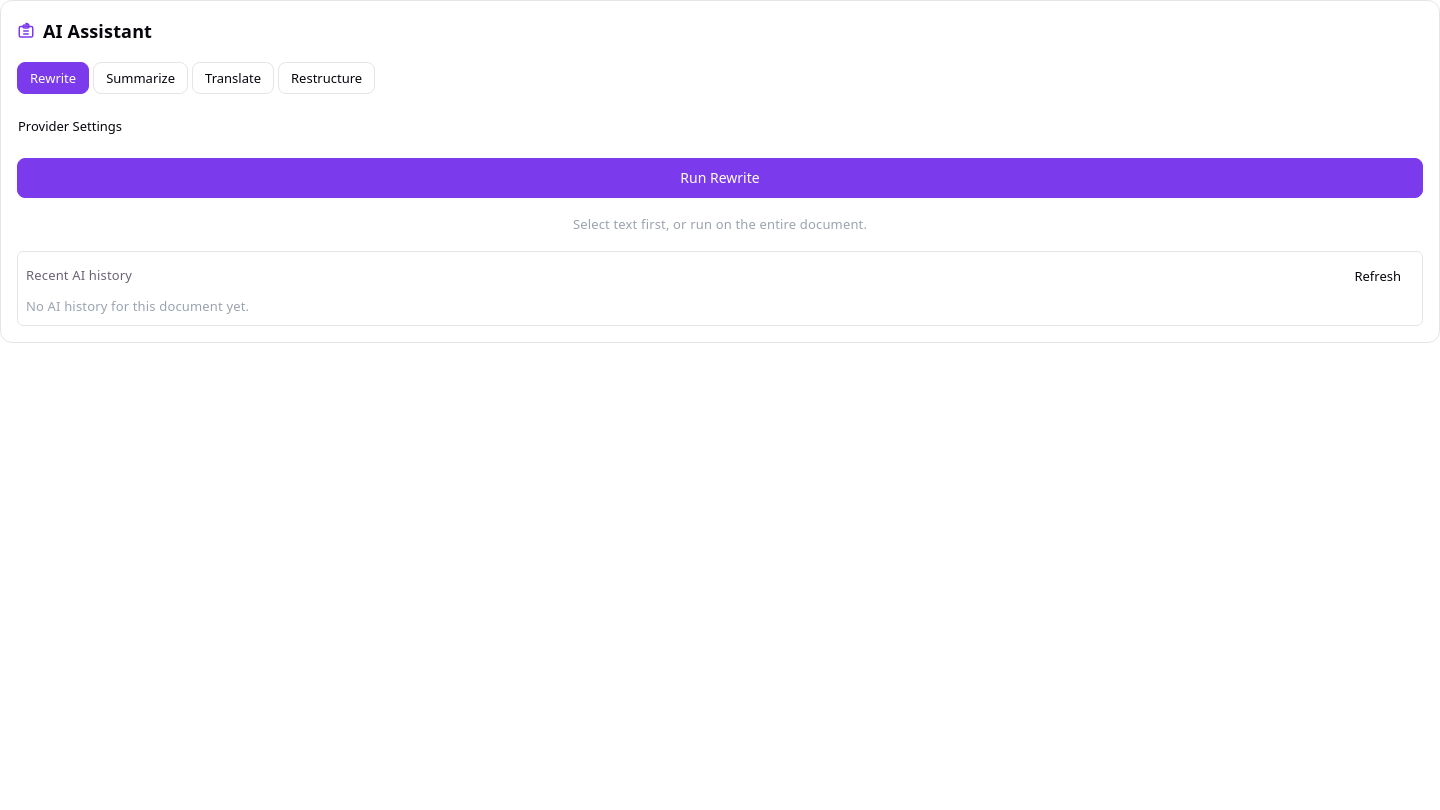
Scenario: AIPanel › supports undo after accepting a suggestion
Click the button "Run Rewrite" at [720, 178], box x1=17 y1=158 x2=1423 y2=198
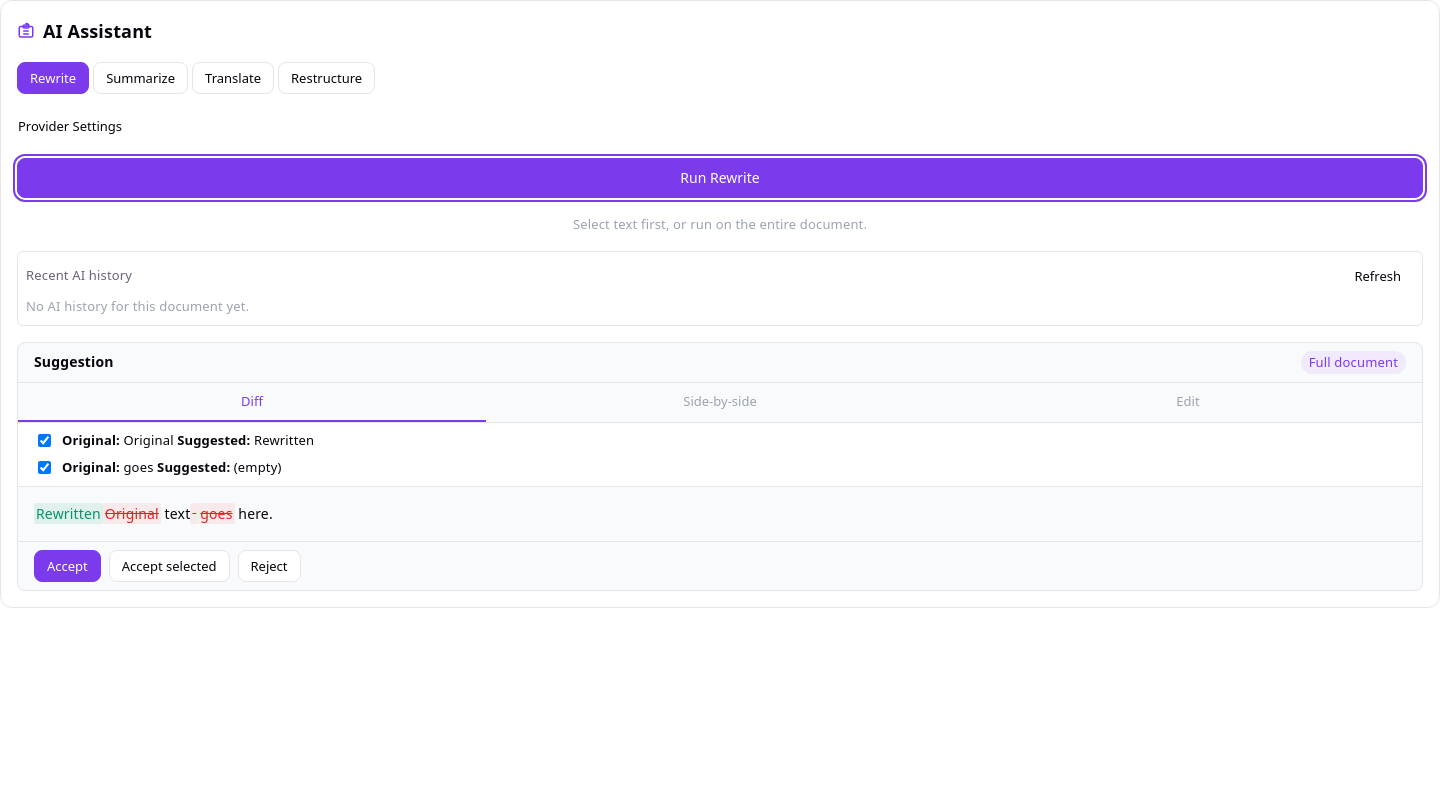
expect the heading "Suggestion" is shown: met, box x1=34 y1=351 x2=114 y2=374
Click the button "Accept" at [67, 566], box x1=34 y1=550 x2=101 y2=582
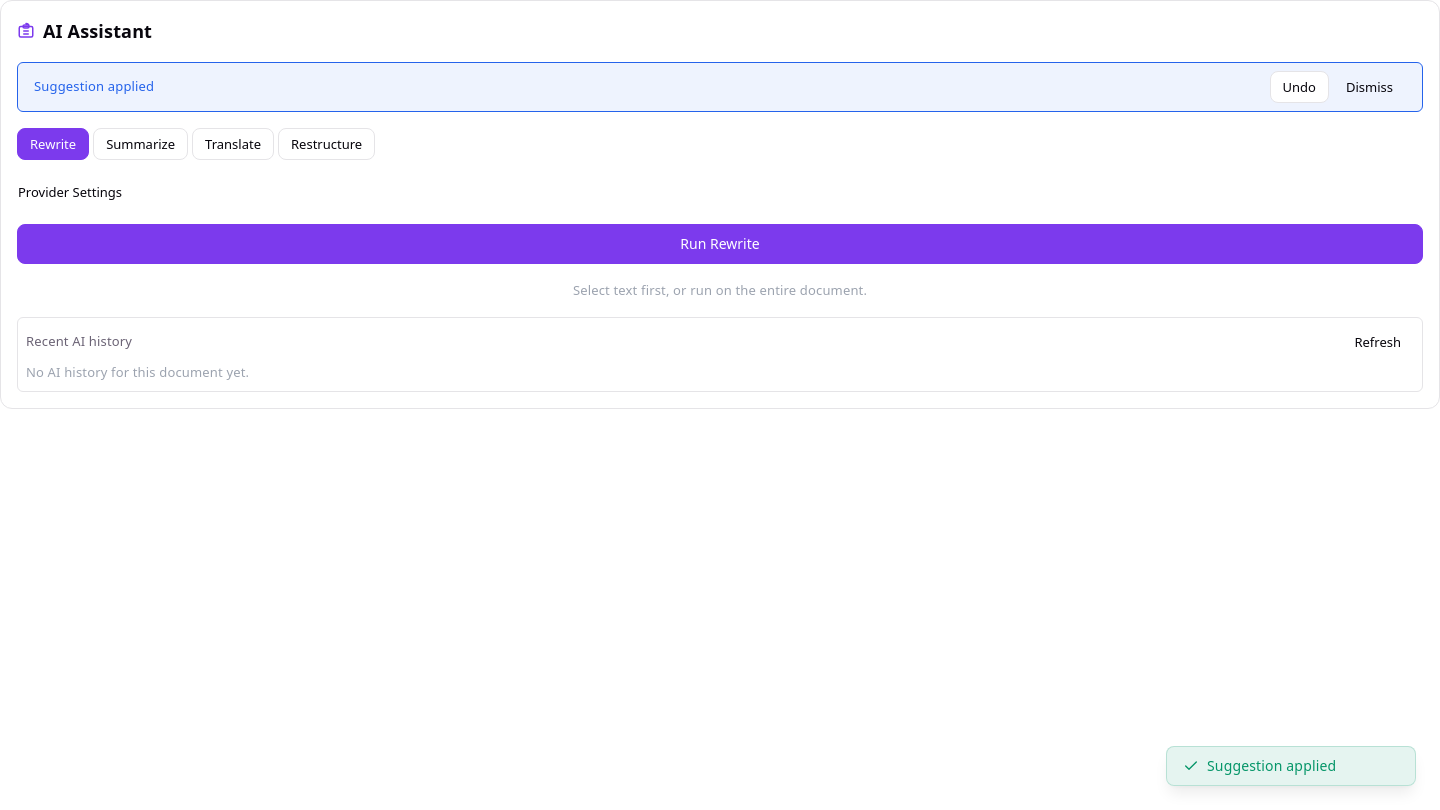
expect the element with class "ai-undo-banner" is shown: met, box x1=17 y1=62 x2=1423 y2=112
Click the button "Undo" at [1299, 87], box x1=1270 y1=71 x2=1329 y2=103
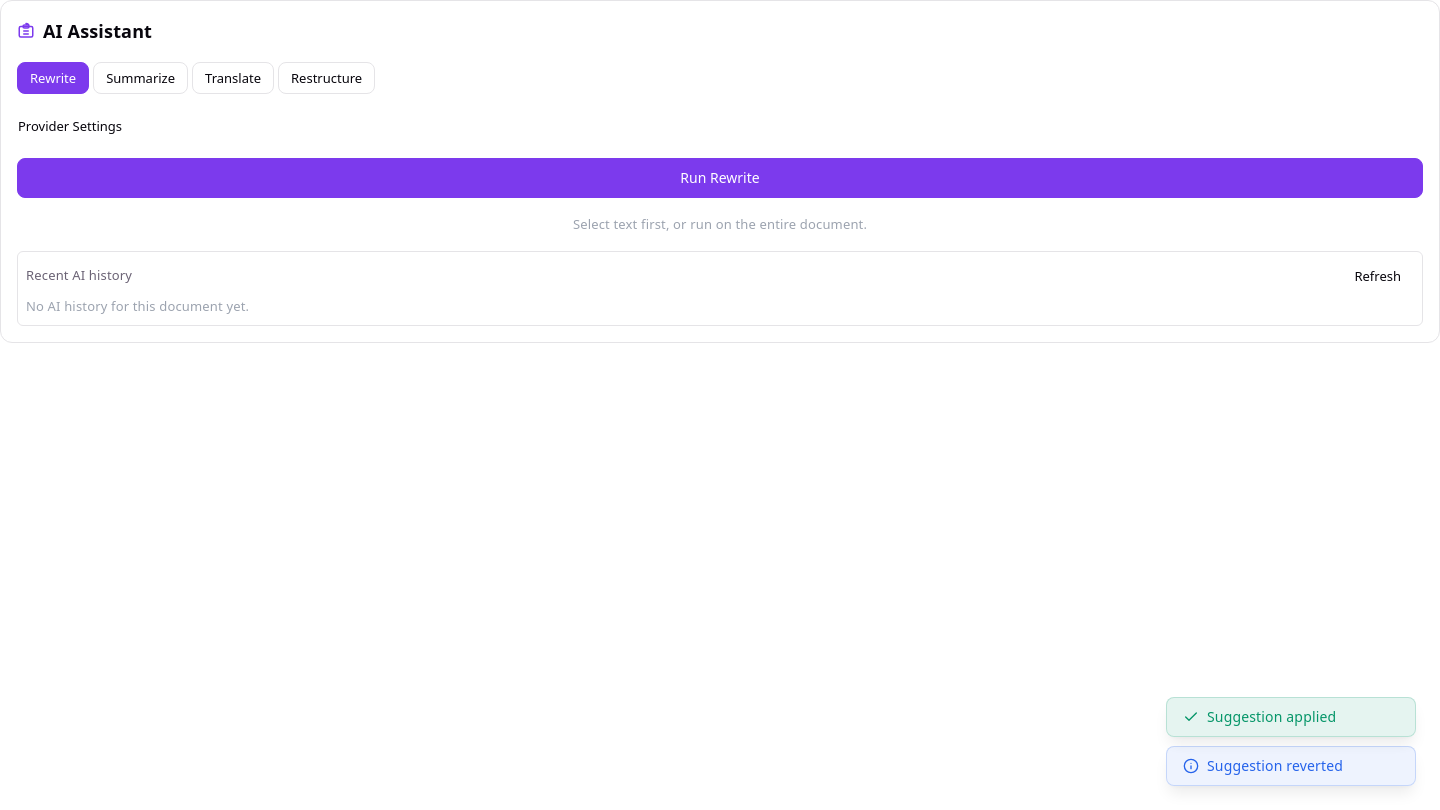
expect the element with class "ai-undo-banner" is gone: met
